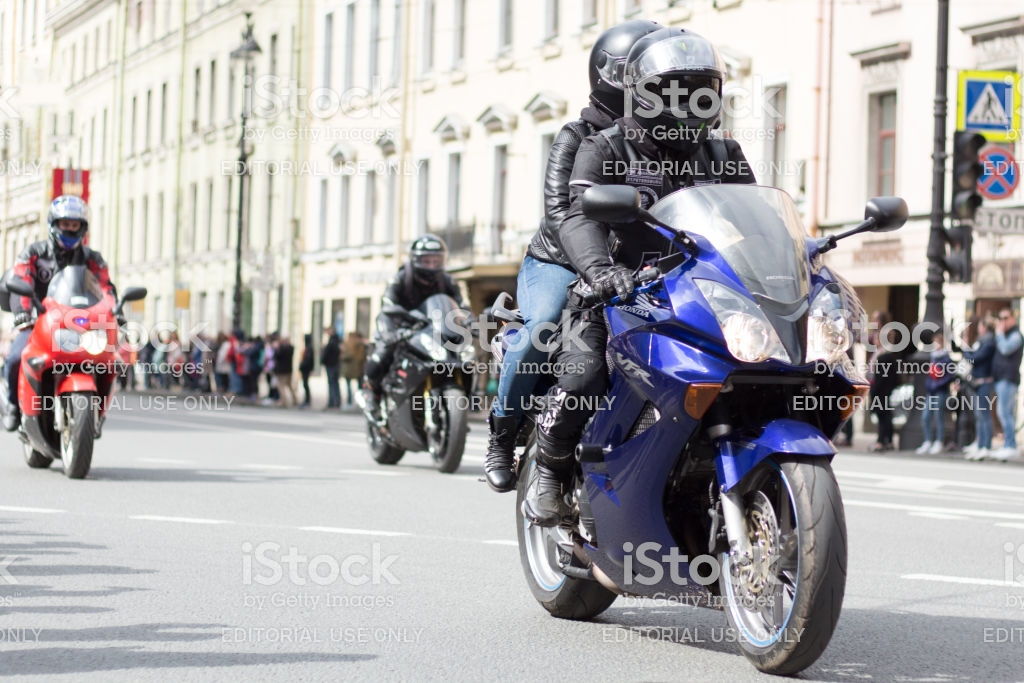helmet: (622, 24, 755, 101), (577, 9, 651, 98), (45, 200, 93, 257), (412, 239, 456, 282)
